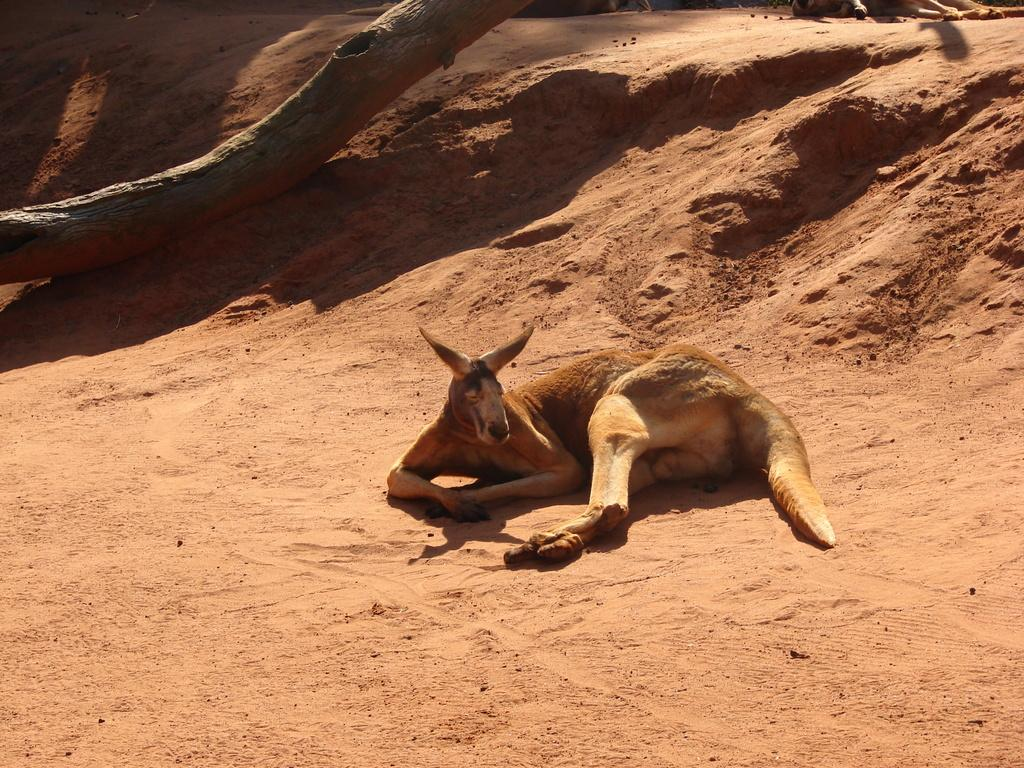kangaroo: (386, 326, 838, 549)
